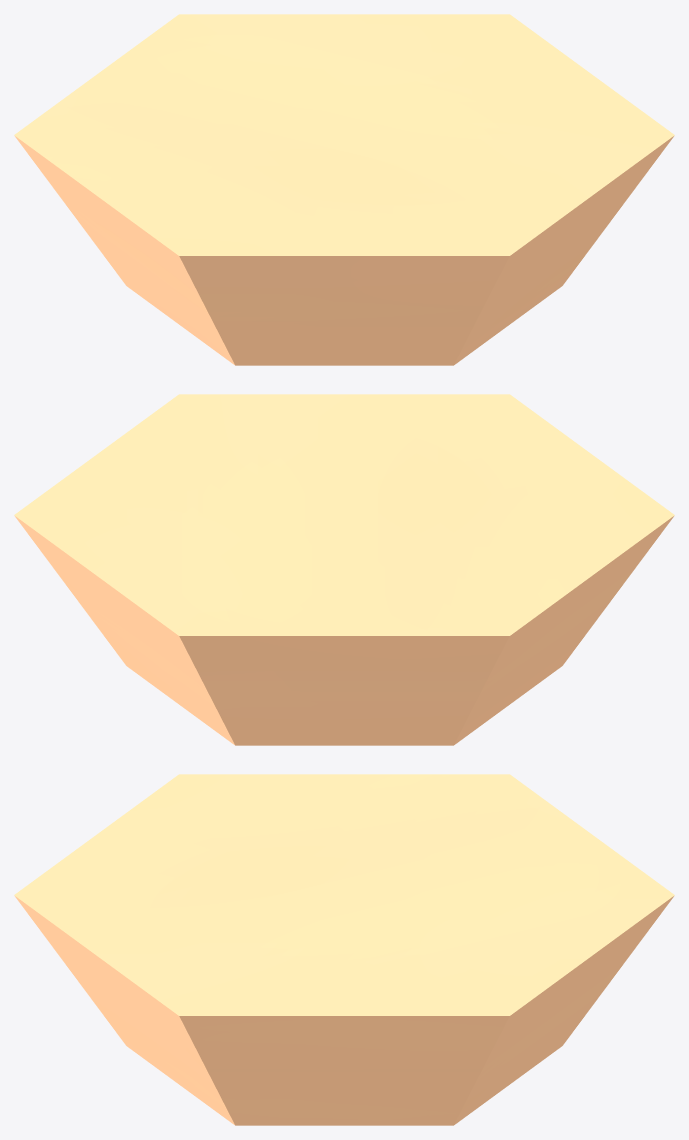
Rendered from lvl1_T_switch1_platform.glb.
The picture shows the model from 3 angles, top to bottom: view 1: azimuth 30°, elevation 25°; view 2: azimuth 150°, elevation 25°; view 3: azimuth 270°, elevation 25°; orthographic projection.
Parts seen in each view (by area): view 1: lvl1_platform_t_switch1; view 2: lvl1_platform_t_switch1; view 3: lvl1_platform_t_switch1.
Boxes of the visible parts, <box> form: lvl1_platform_t_switch1: <box>14,14,674,365</box>; lvl1_platform_t_switch1: <box>14,394,674,745</box>; lvl1_platform_t_switch1: <box>14,774,674,1125</box>.
Size of the model in its own units: 2.93 by 0.8527 by 3.39.
Materials: 1 (1 with a texture image).
